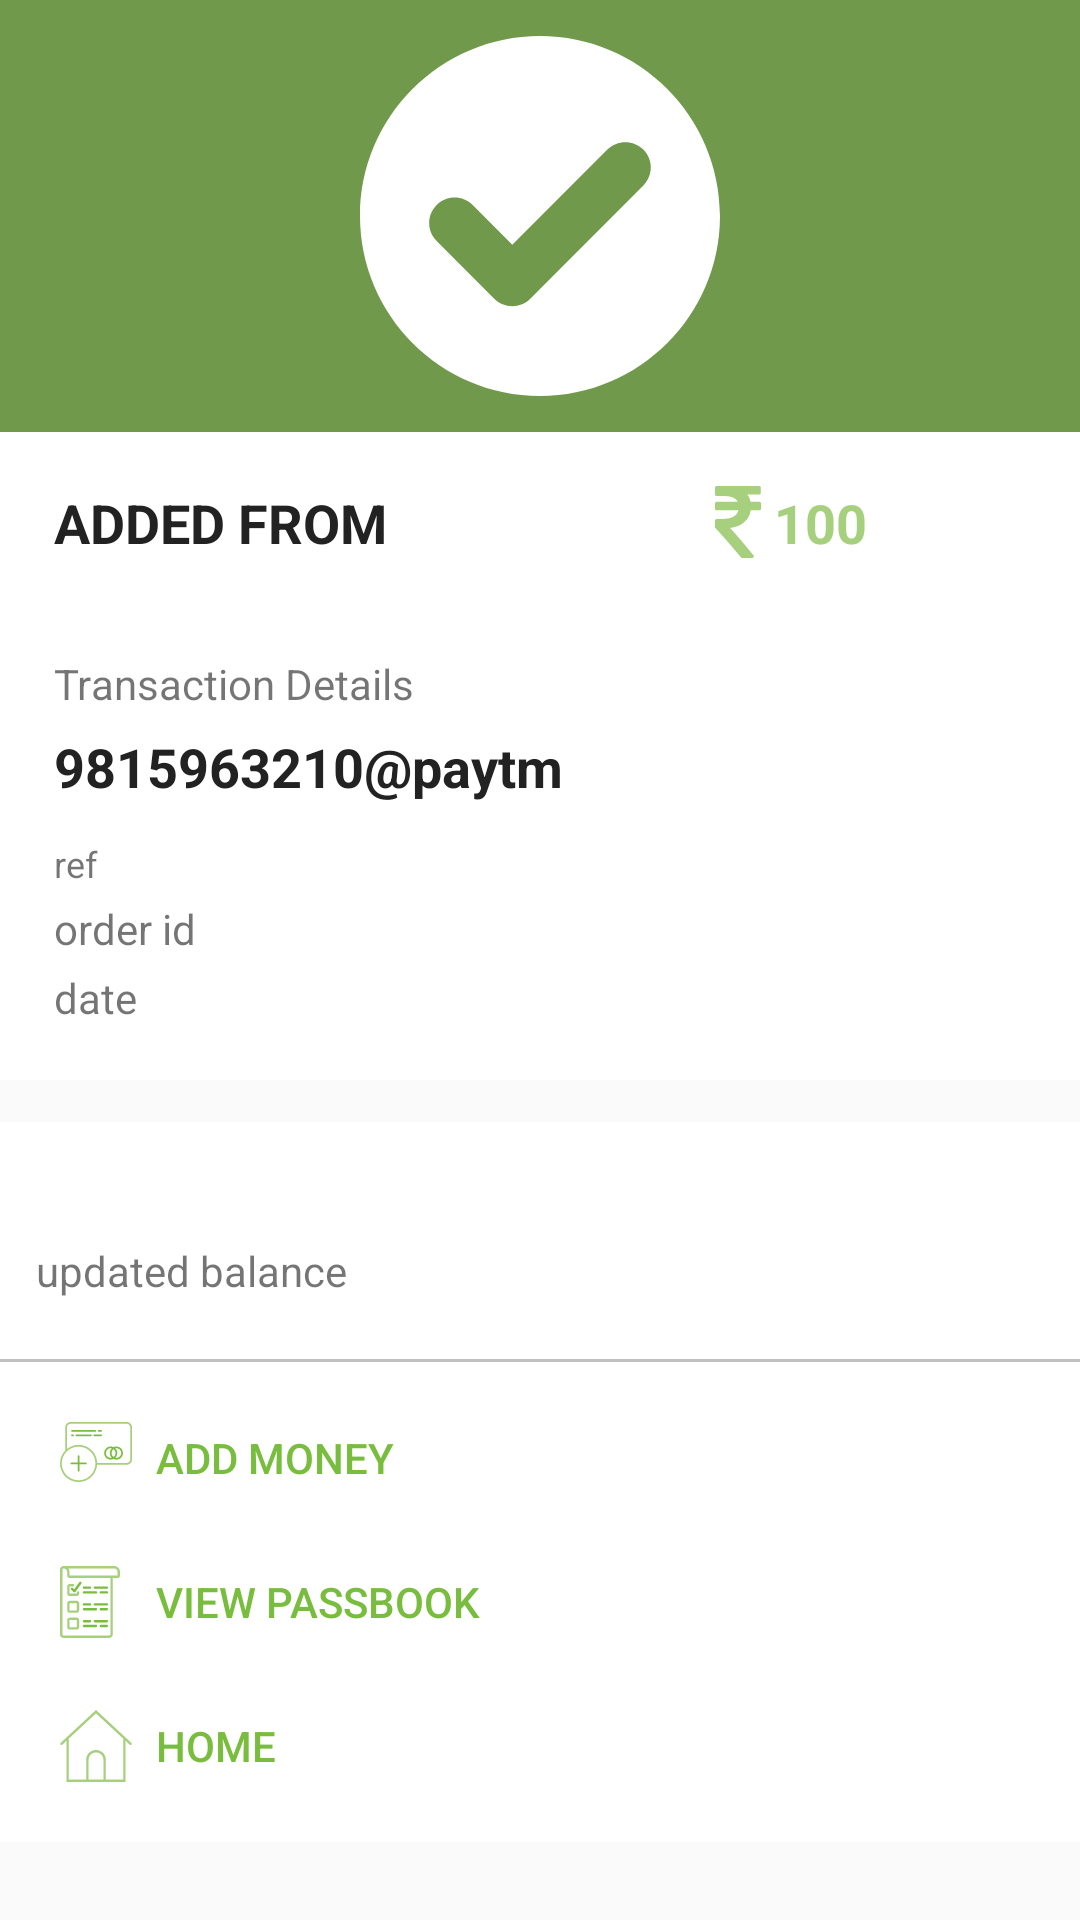

Icons on this 1080×1920 Android screen, each with its box as {"x1": x1, "y1": y1, "x2": x2, "y2": y2}:
tick: {"x1": 360, "y1": 36, "x2": 720, "y2": 396}
